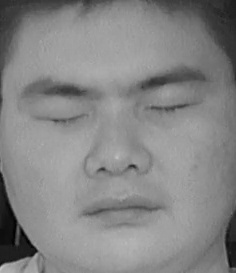blink: (144, 89, 199, 125), (33, 99, 89, 134)
mouth: (77, 187, 169, 236)
